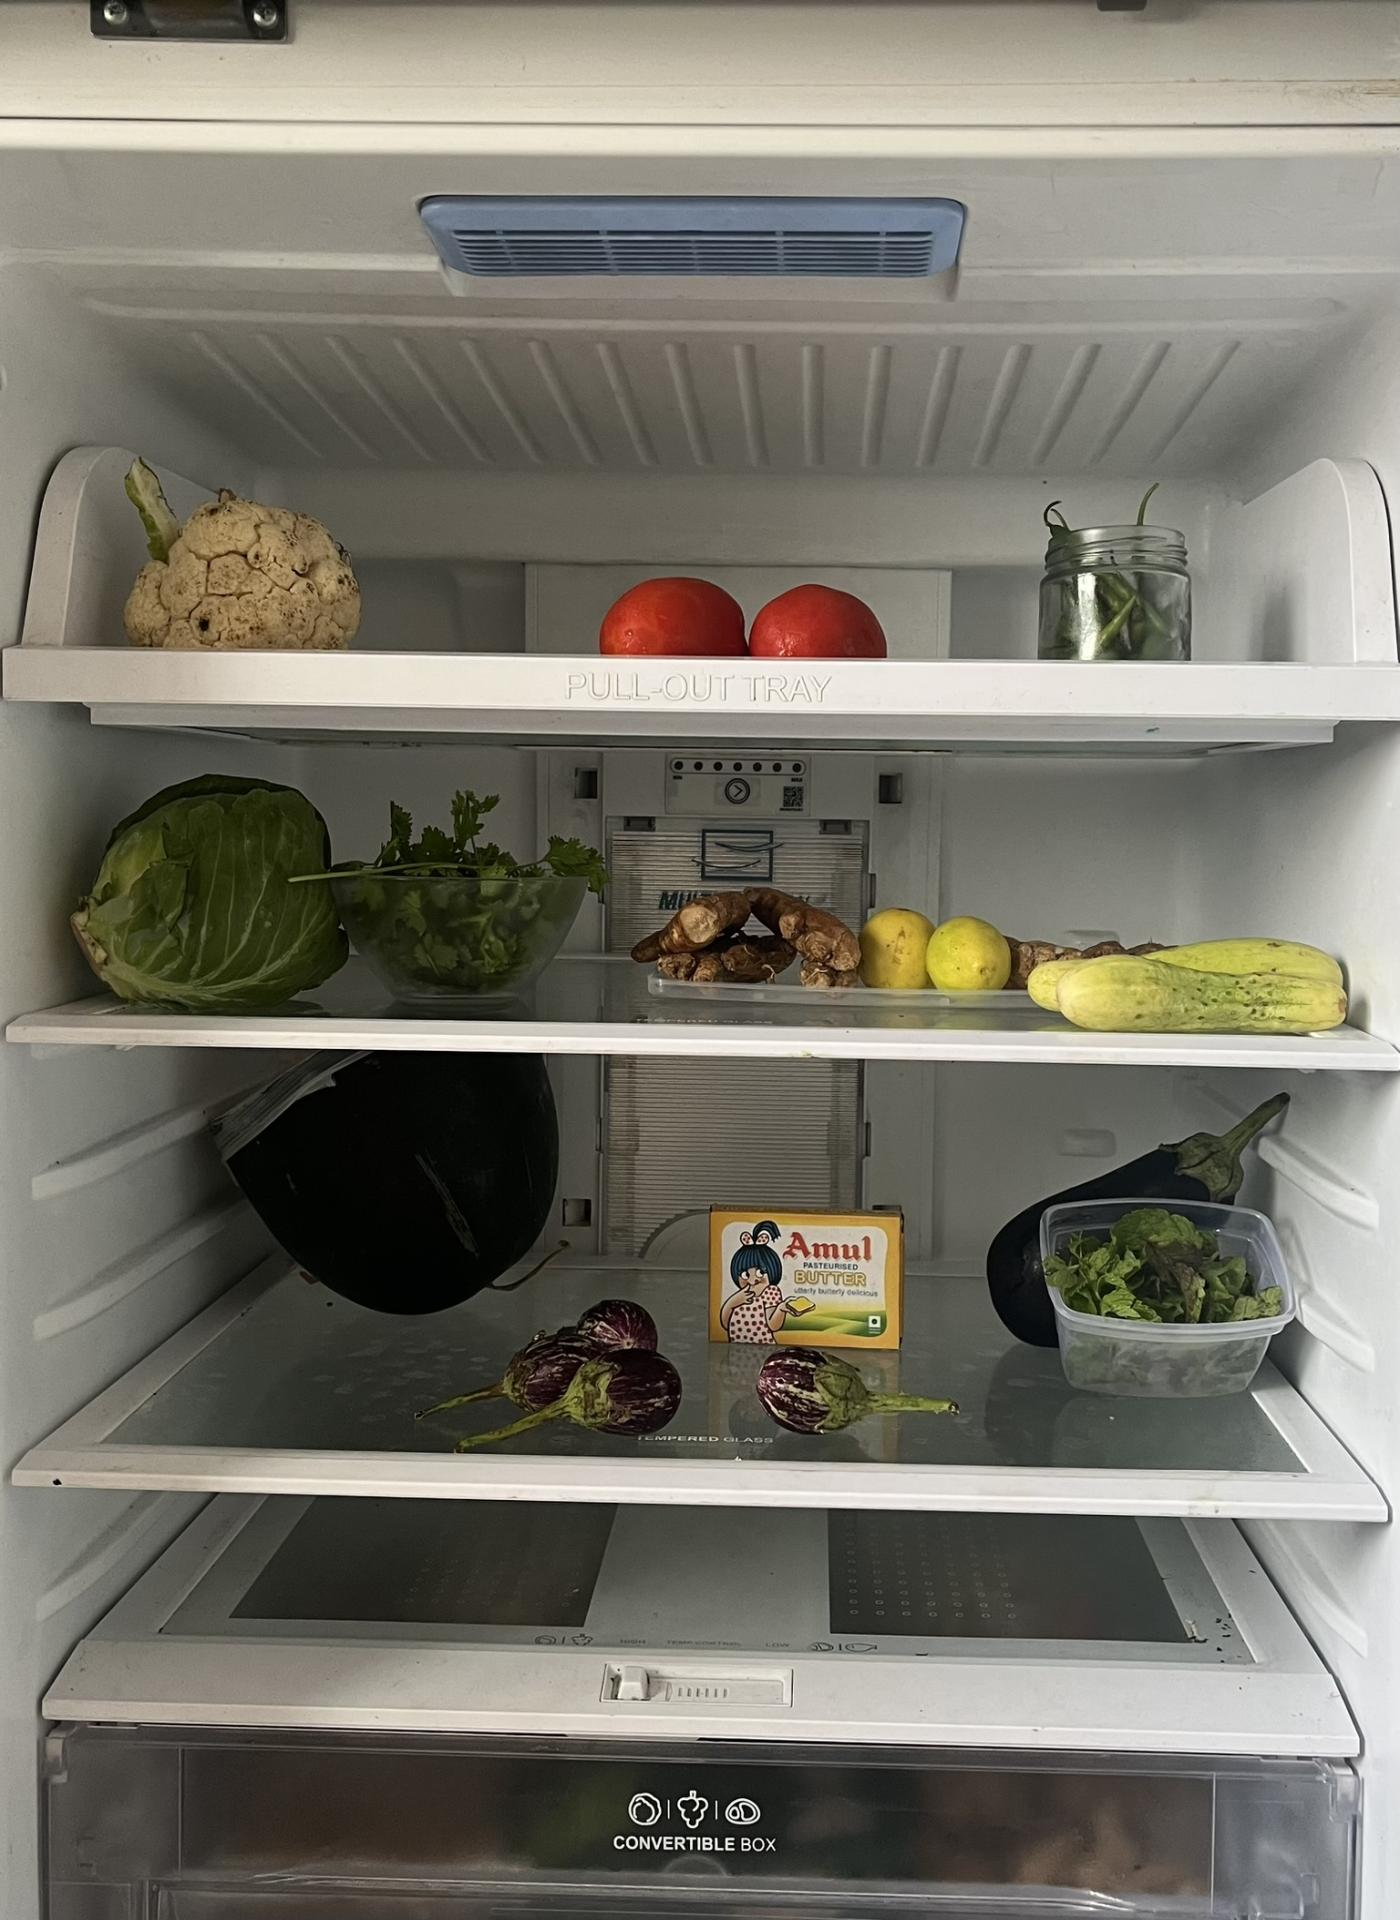basil: (1041, 1201, 1288, 1362)
brinjal: (991, 1079, 1305, 1346), (462, 1304, 672, 1437), (762, 1348, 954, 1434)
butter: (693, 1197, 906, 1343)
cabbage: (66, 780, 347, 1015)
cauliflower: (110, 470, 371, 651)
chillies: (1041, 502, 1185, 654)
coriander: (352, 784, 596, 993)
cucumber: (1032, 939, 1352, 1033)
ginger: (631, 906, 854, 990)
lemon: (877, 897, 997, 990)
tomato: (593, 568, 889, 662)
watermelon: (216, 1042, 573, 1322)
